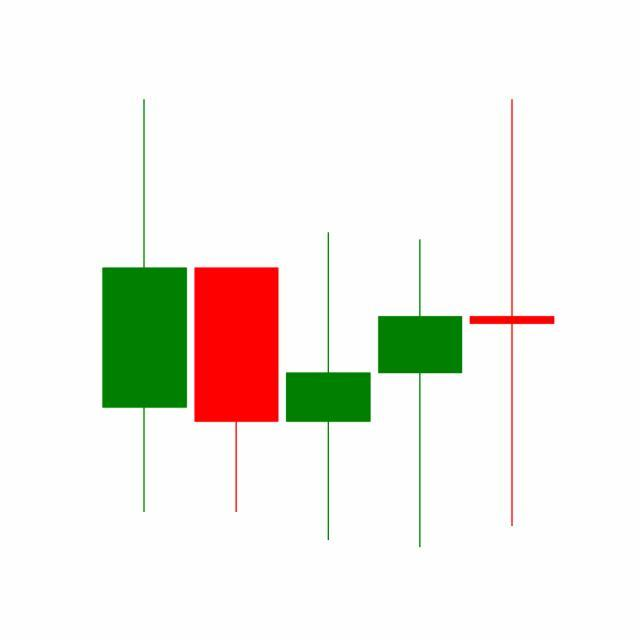Spinning Top: (374, 236, 468, 551)
